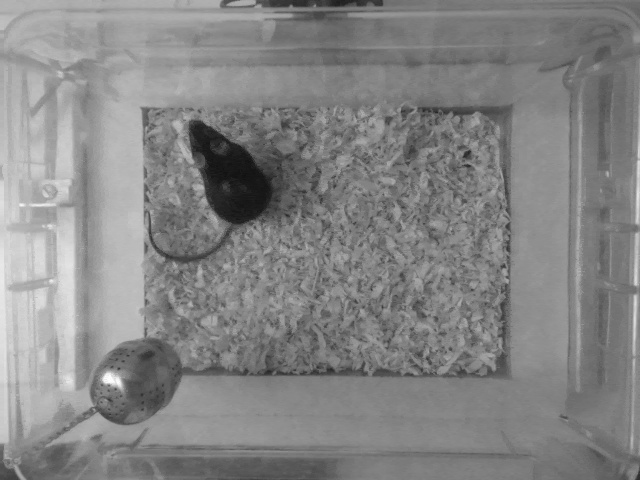mice: (143, 115, 274, 266)
